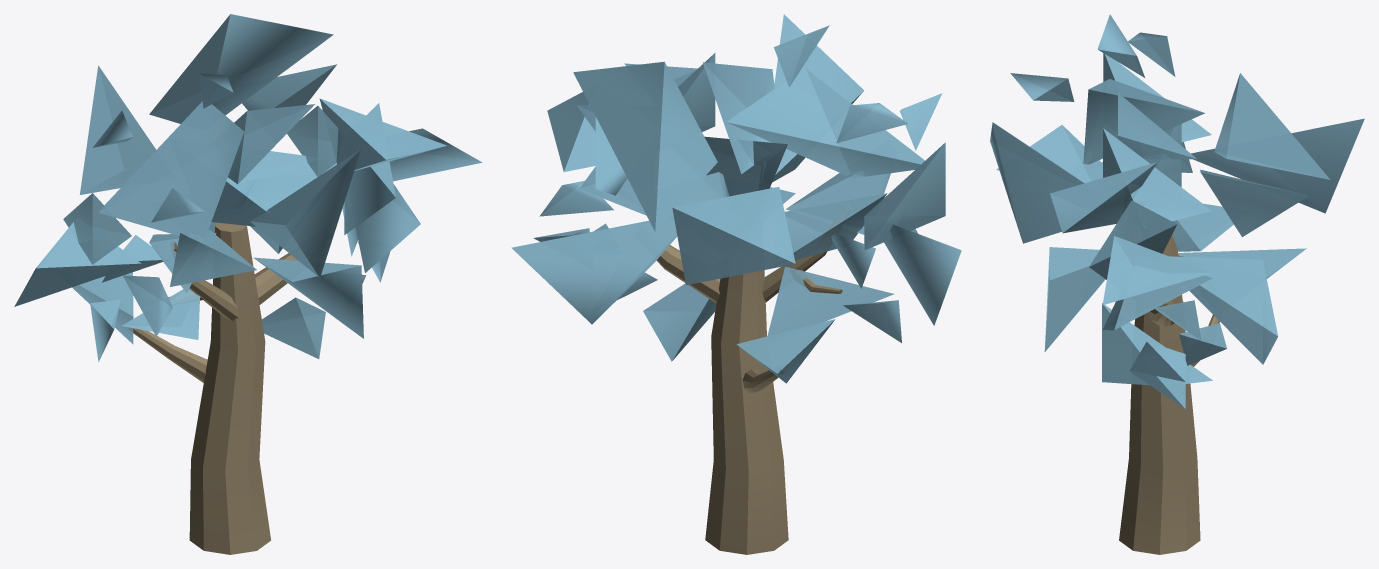
Rendered from Blue_Triangle_Tree.fbx.
3 views of the same model, side by side, from view 1: azimuth 30°, elevation 25°; view 2: azimuth 150°, elevation 25°; view 3: azimuth 270°, elevation 25° (orthographic). The views are drawn at different scales.
Parts seen in each view (by area): view 1: trunk, pCube10, pCube13, pCube24, pCube14, pCube6, pCube9, pCube3, pCube17, pCube7, pCube27, pCube4 (+15 smaller); view 2: trunk, pCube13, pCube10, pCube14, pCube15, pCube16, pCube12, pCube17, pCube7, pCube11, pCube2, pCube6 (+14 smaller); view 3: trunk, pCube15, pCube13, pCube24, pCube14, pCube10, pCube9, pCube26, pCube3, pCube8, pCube23, pCube2 (+15 smaller).
Boxes of the visible parts, box(x1,y1,x2,y2) form: trunk: box(133, 222, 297, 554); pCube10: box(98, 101, 244, 237); pCube13: box(149, 14, 333, 123); pCube24: box(250, 149, 361, 277); pCube14: box(80, 65, 156, 194); pCube6: box(211, 151, 336, 226); pCube9: box(319, 98, 446, 170); pCube3: box(253, 257, 363, 338); pCube17: box(14, 222, 141, 306); pCube7: box(228, 104, 314, 184); pCube27: box(170, 229, 256, 286); pCube4: box(355, 184, 420, 272); trunk: box(656, 245, 842, 554); pCube13: box(573, 61, 717, 231); pCube10: box(726, 68, 924, 176); pCube14: box(672, 187, 795, 285); pCube15: box(511, 217, 677, 324); pCube16: box(864, 142, 945, 250); pCube12: box(767, 266, 894, 336); pCube17: box(884, 224, 961, 325); pCube7: box(703, 62, 774, 173); pCube11: box(784, 193, 887, 259); pCube2: box(643, 283, 716, 361); pCube6: box(704, 136, 787, 196); trunk: box(1119, 234, 1219, 554); pCube15: box(1169, 256, 1278, 364); pCube13: box(1214, 73, 1330, 179); pCube24: box(990, 122, 1084, 243); pCube14: box(1191, 118, 1364, 213); pCube10: box(1083, 79, 1205, 164); pCube9: box(1050, 162, 1157, 233); pCube26: box(1102, 236, 1212, 304); pCube3: box(1044, 247, 1105, 351); pCube8: box(1103, 128, 1211, 221); pCube23: box(1200, 169, 1309, 237); pCube2: box(1102, 303, 1212, 385).
Bounding box in the file's own units: 6.19 × 6.88 × 4.71.
